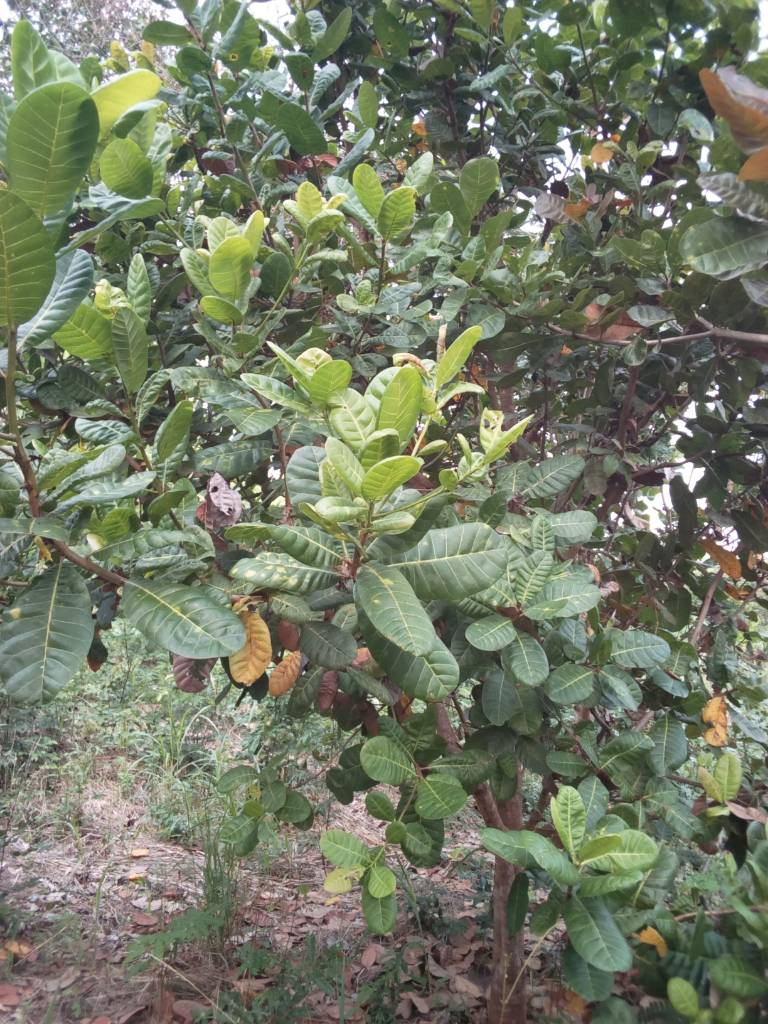Helopeltis anacardii: (1, 561, 86, 702), (119, 578, 246, 657), (216, 522, 346, 571)
